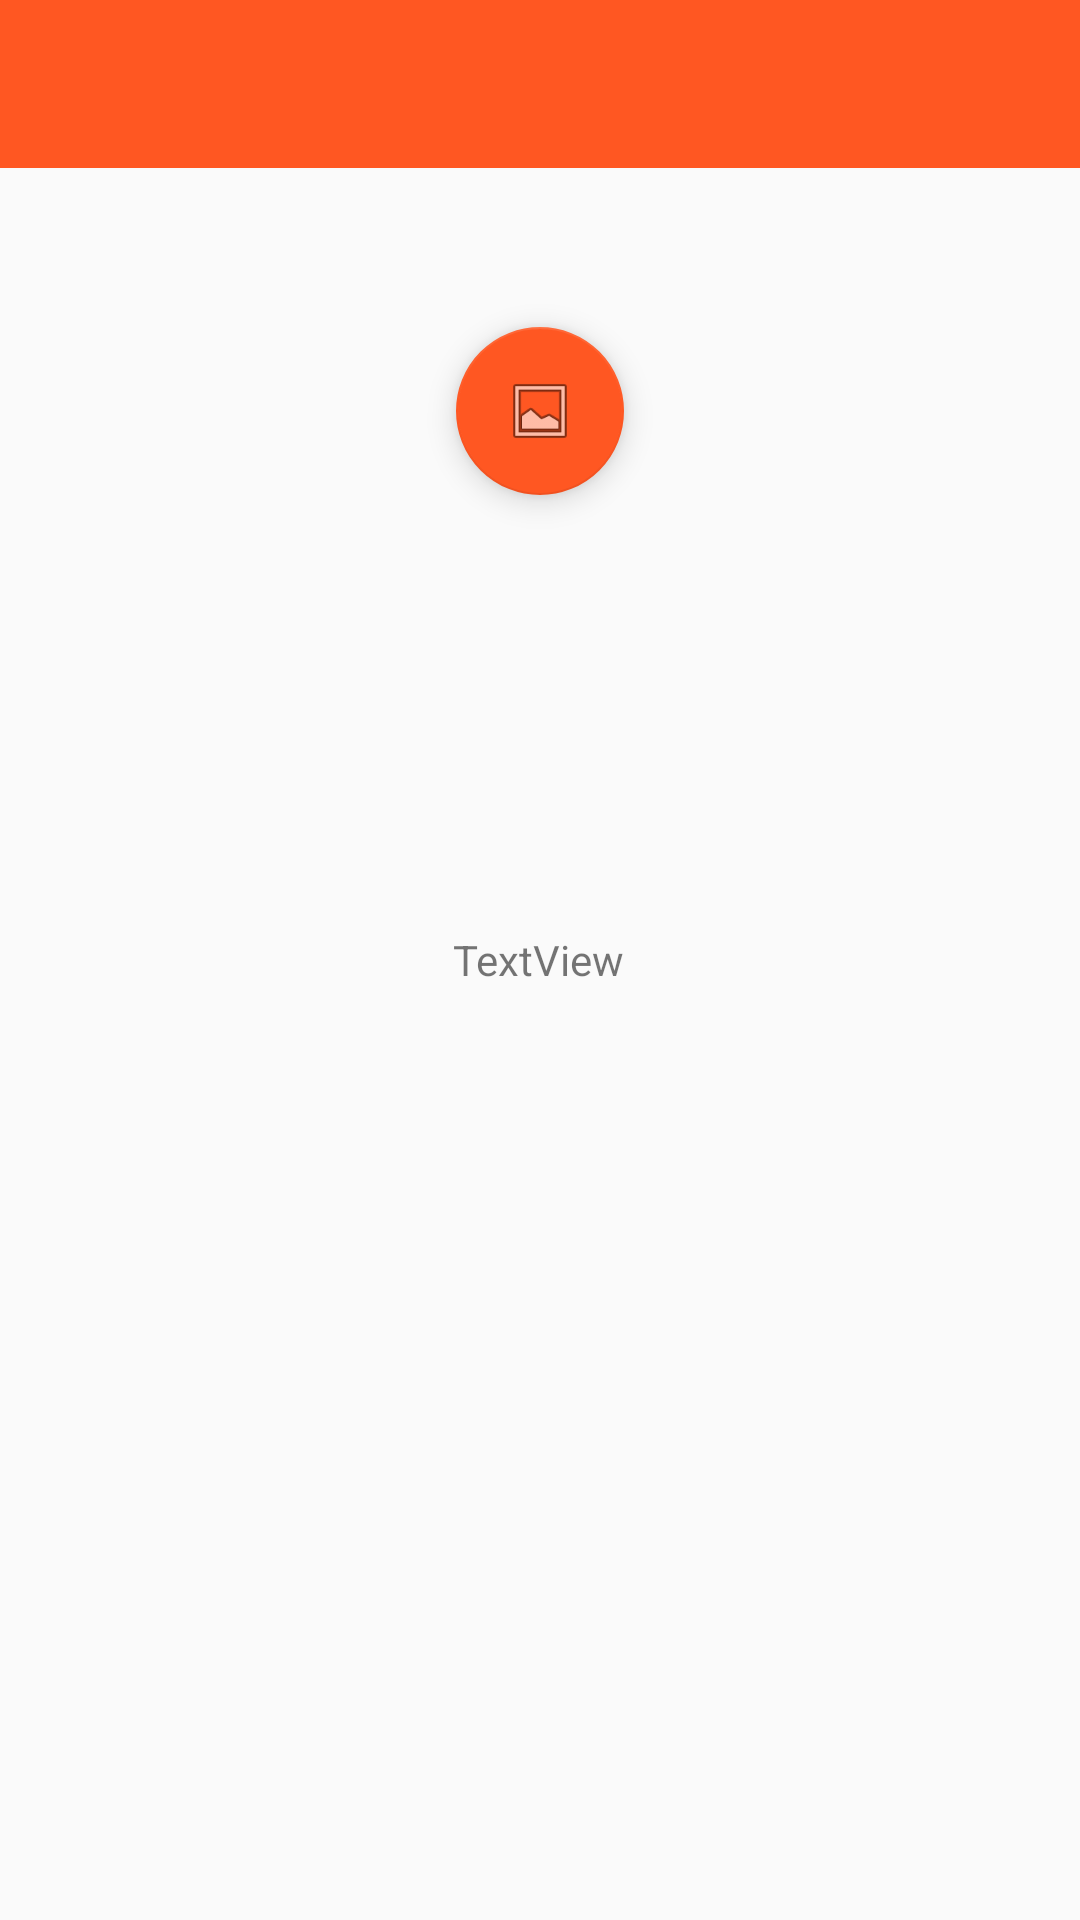

Locate icon controls on the screen. Image size 1080w x 1920h, boxes as (x1, y1, x2, y2).
gallery: (456, 327, 624, 495)
